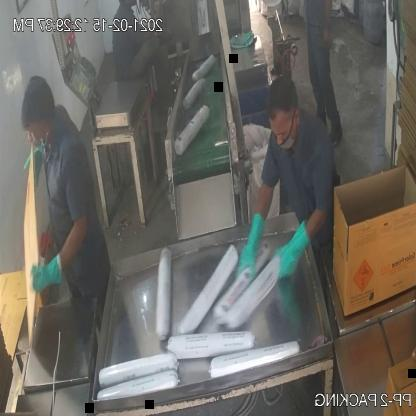glove: (270, 218, 313, 288), (234, 202, 268, 285), (26, 245, 63, 304)
no_glove: (318, 0, 340, 60)
